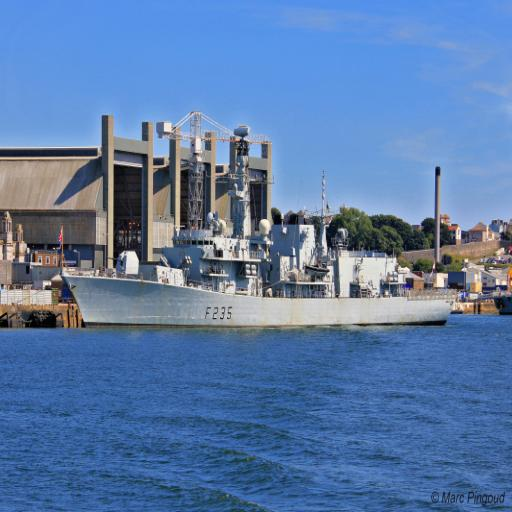Fragata: (57, 165, 458, 334)
